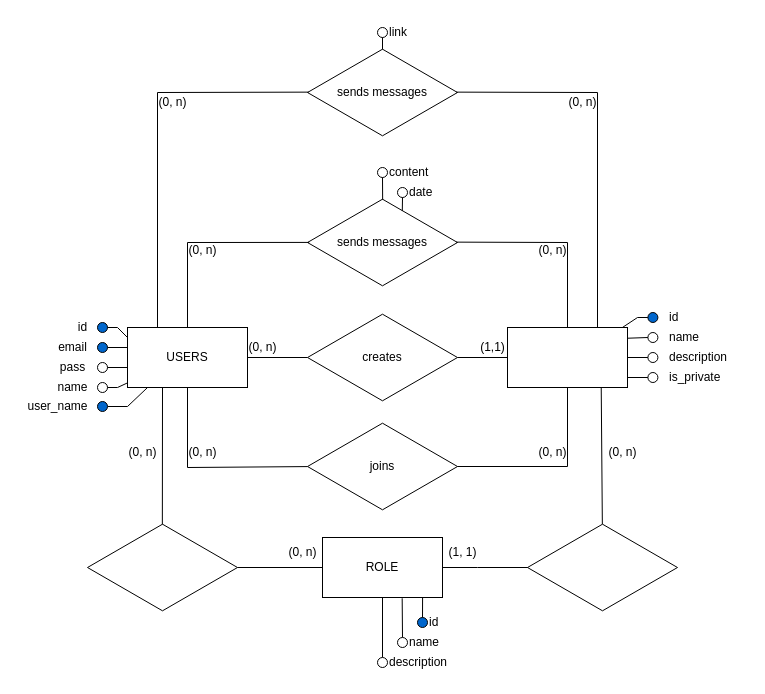
Some shapes in this 765 by 694 pixel diagram are drawn without their labels. The box of each missing label's shape, as (x1, y1, x2, y2) in pixels:
has: (526, 522, 678, 612)
is assigned: (86, 522, 238, 612)
ROOM: (506, 326, 628, 388)
